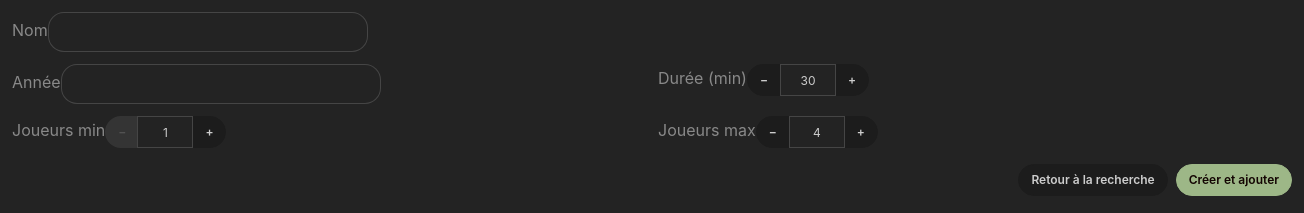
Test: ManualBoardGameForm › shows an error message when submitting without a name
The width and height of the screenshot is (1304, 213).
Click the button "Créer et ajouter" at {"x": 1234, "y": 180}, box [1176, 164, 1292, 196]
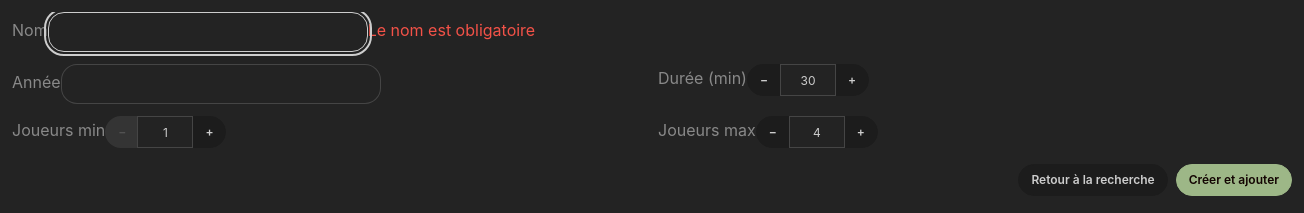
Expected: the text "Le nom est obligatoire" is shown, [368, 18, 535, 42]
